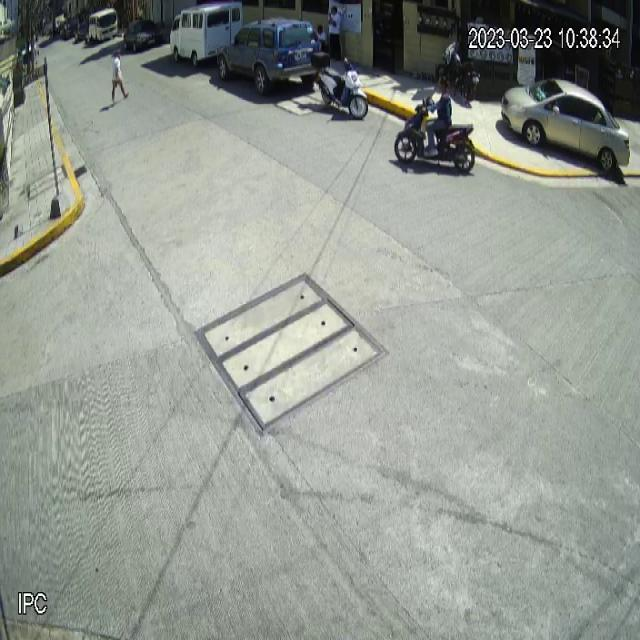Car: (500, 77, 631, 173), (217, 17, 323, 89)
Motorcycle: (394, 95, 476, 173), (310, 48, 368, 122)
Van: (170, 0, 243, 70)
